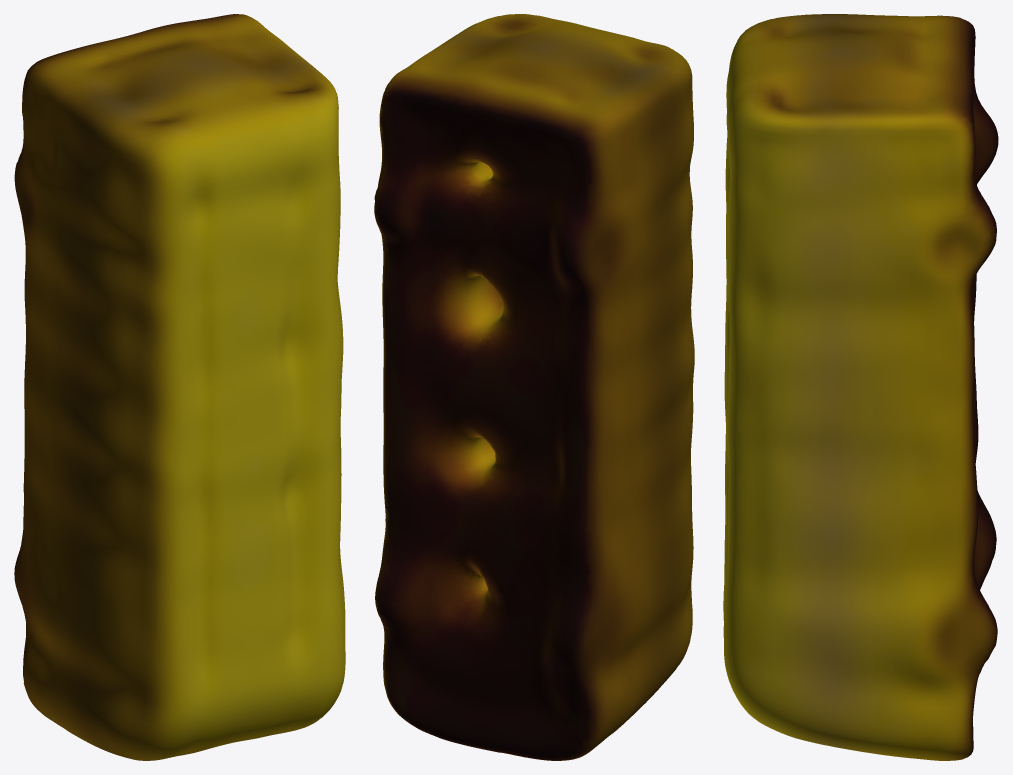
Rendered from school_bus1.glb.
3 views of the same model, side by side, from view 1: azimuth 30°, elevation 25°; view 2: azimuth 150°, elevation 25°; view 3: azimuth 270°, elevation 25° (orthographic). The views are drawn at different scales.
Size of the model in its own units: 0.3752 by 0.9998 by 0.3669.
